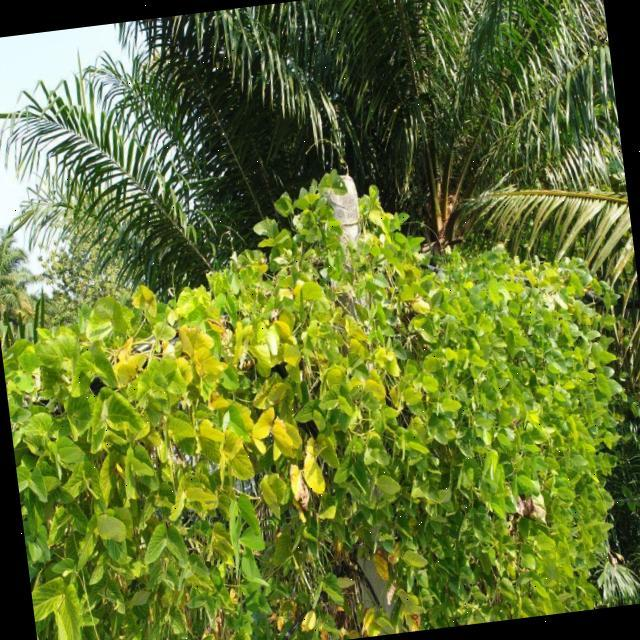critical vegetation: (32, 131, 629, 530)
